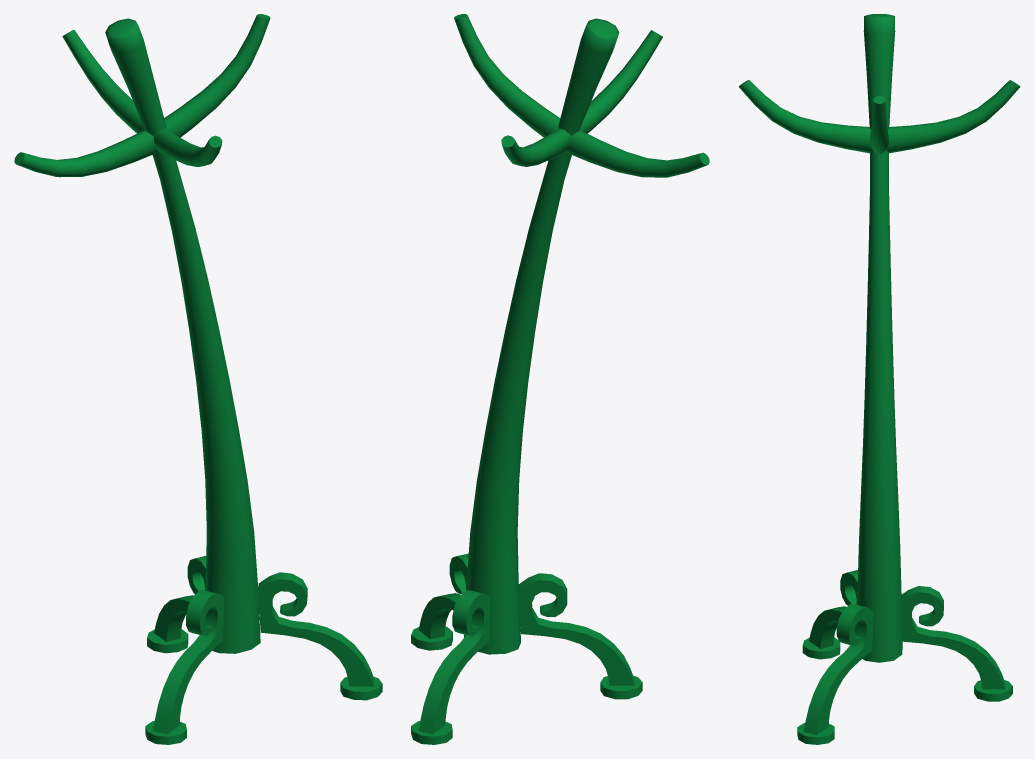
Rendered from CoatStand.FBX.
3 views of the same model, side by side, from view 1: azimuth 30°, elevation 25°; view 2: azimuth 150°, elevation 25°; view 3: azimuth 270°, elevation 25° (orthographic). The views are drawn at different scales.
Parts seen in each view (by area): view 1: CoatStand; view 2: CoatStand; view 3: CoatStand.
Boxes of the visible parts, x1,y1,x2,y2 form: CoatStand: (14,14,382,744); CoatStand: (411,14,709,744); CoatStand: (738,14,1020,744).
Size of the model in its own units: 0.8009 by 1.61 by 0.6498.
